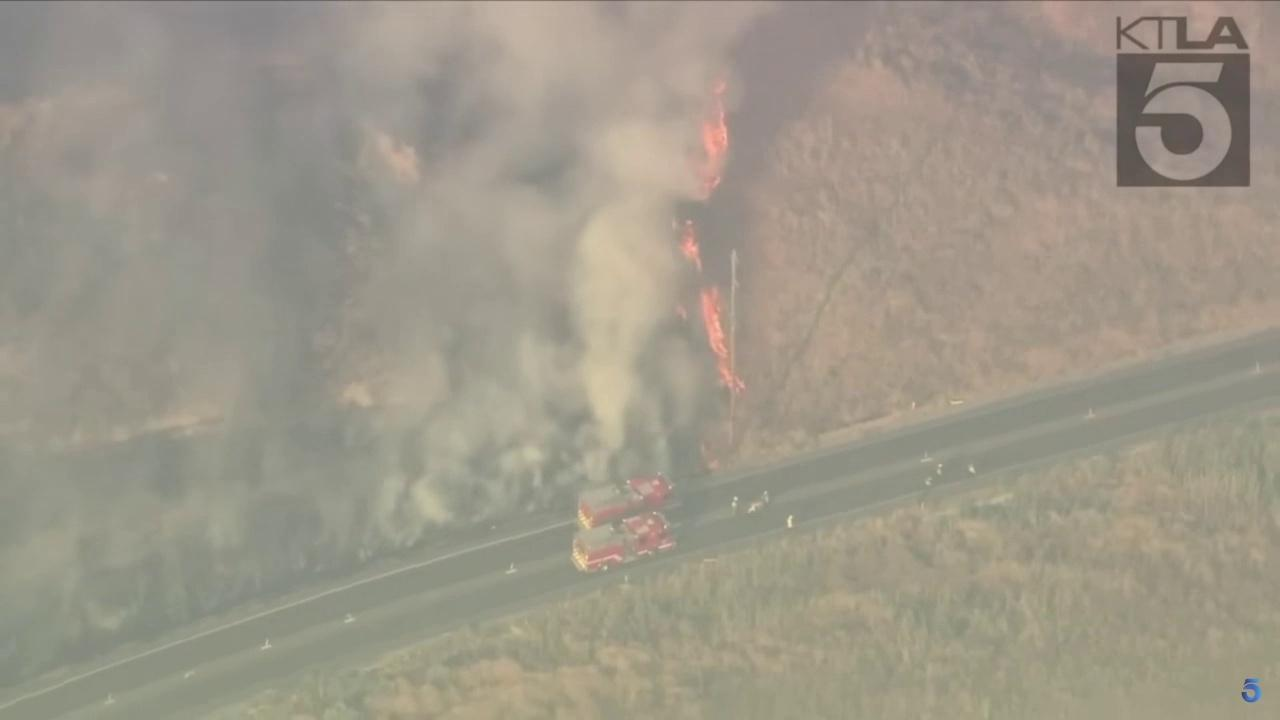fire: (700, 282, 747, 394), (697, 81, 730, 202), (676, 219, 705, 273), (674, 303, 690, 319)
smoke: (0, 0, 808, 662)
